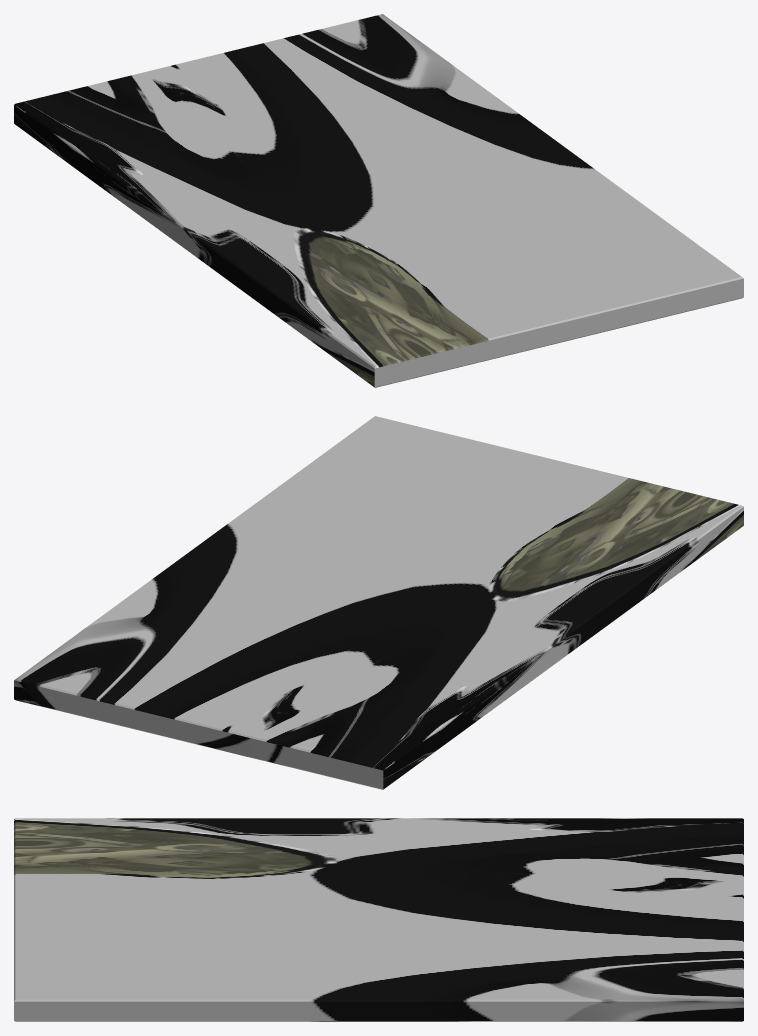
The model's file is Door_D.obj.
3 views of the same model, one above another, from view 1: azimuth 30°, elevation 25°; view 2: azimuth 150°, elevation 25°; view 3: azimuth 270°, elevation 25° (orthographic).
Bounding box in the file's own units: 0.4572 × 0.0254 × 0.7729.
